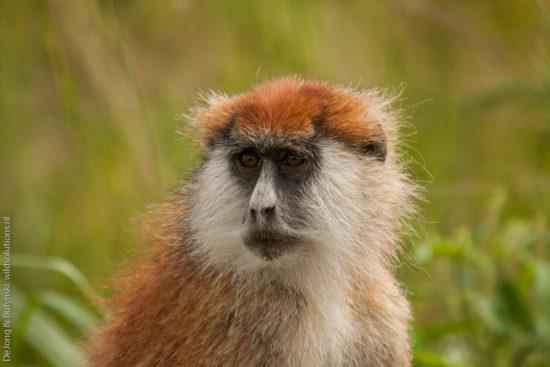monkey: (99, 75, 410, 367)
